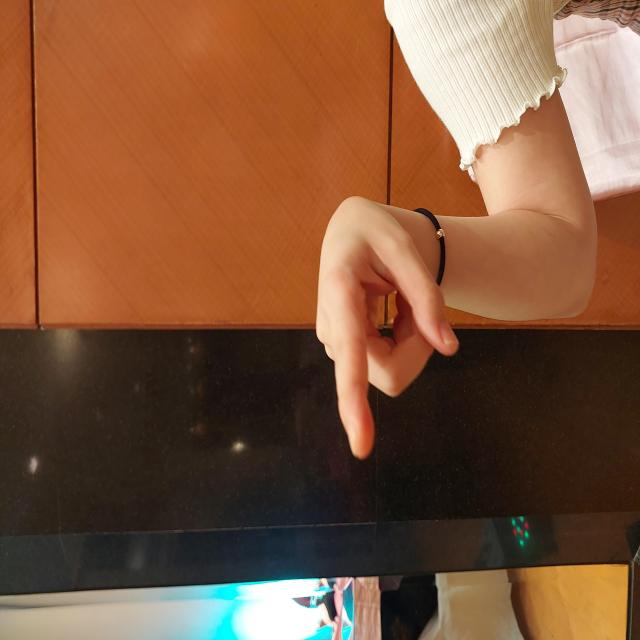Z: (177, 312, 445, 458)
